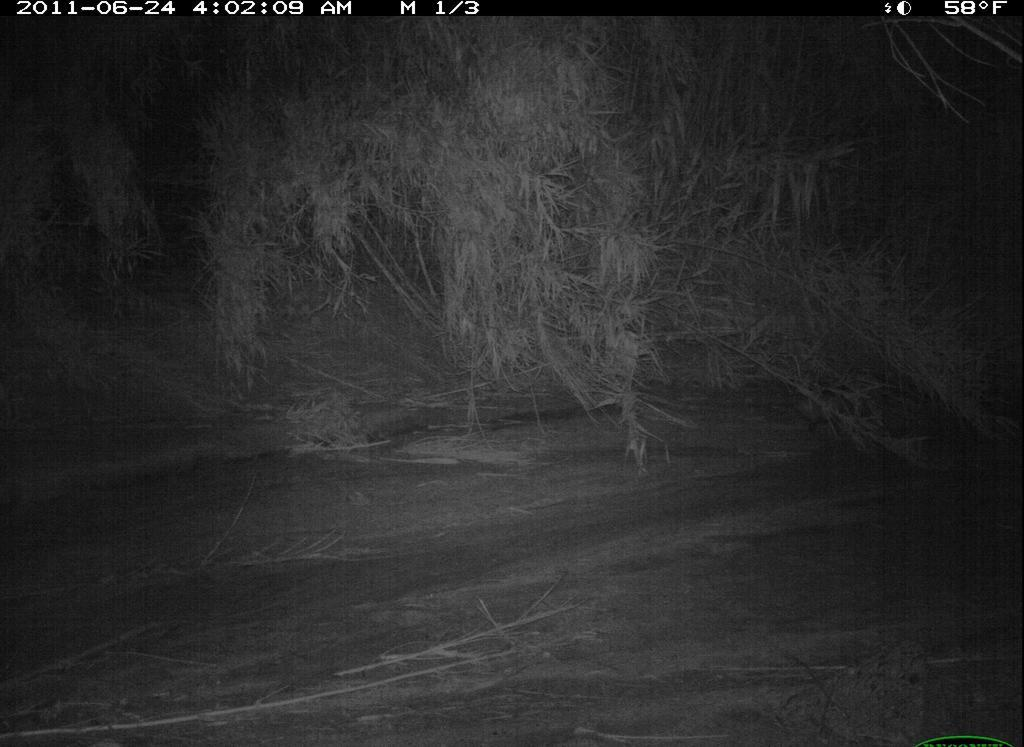opossum: (789, 376, 860, 444)
